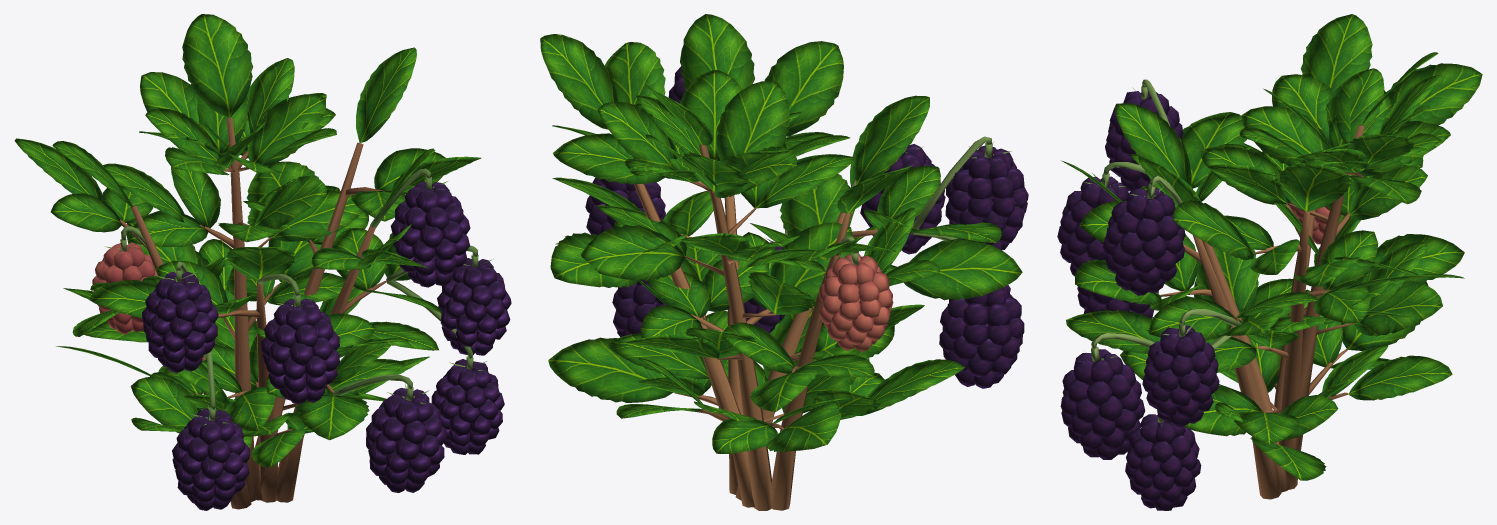
Rendered from NP_Blackberry_Ready.fbx.
The picture shows the model from 3 angles, left to right: view 1: azimuth 30°, elevation 25°; view 2: azimuth 150°, elevation 25°; view 3: azimuth 270°, elevation 25°; orthographic projection. The views are drawn at different scales.
Parts seen in each view (by area): view 1: NP_Blackberry_Ready; view 2: NP_Blackberry_Ready; view 3: NP_Blackberry_Ready.
Part boxes in pixels (x1,y1,x2,y2): NP_Blackberry_Ready: [14, 14, 511, 510]; NP_Blackberry_Ready: [540, 14, 1028, 510]; NP_Blackberry_Ready: [1057, 14, 1482, 510].
Size of the model in its own units: 80.99 by 80.47 by 70.21.
